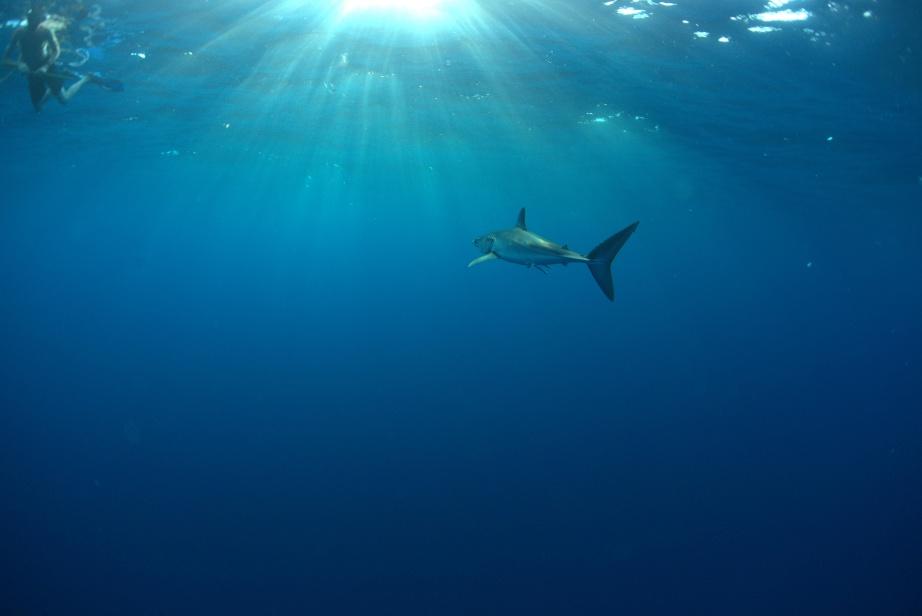Mako: (445, 193, 649, 313)
